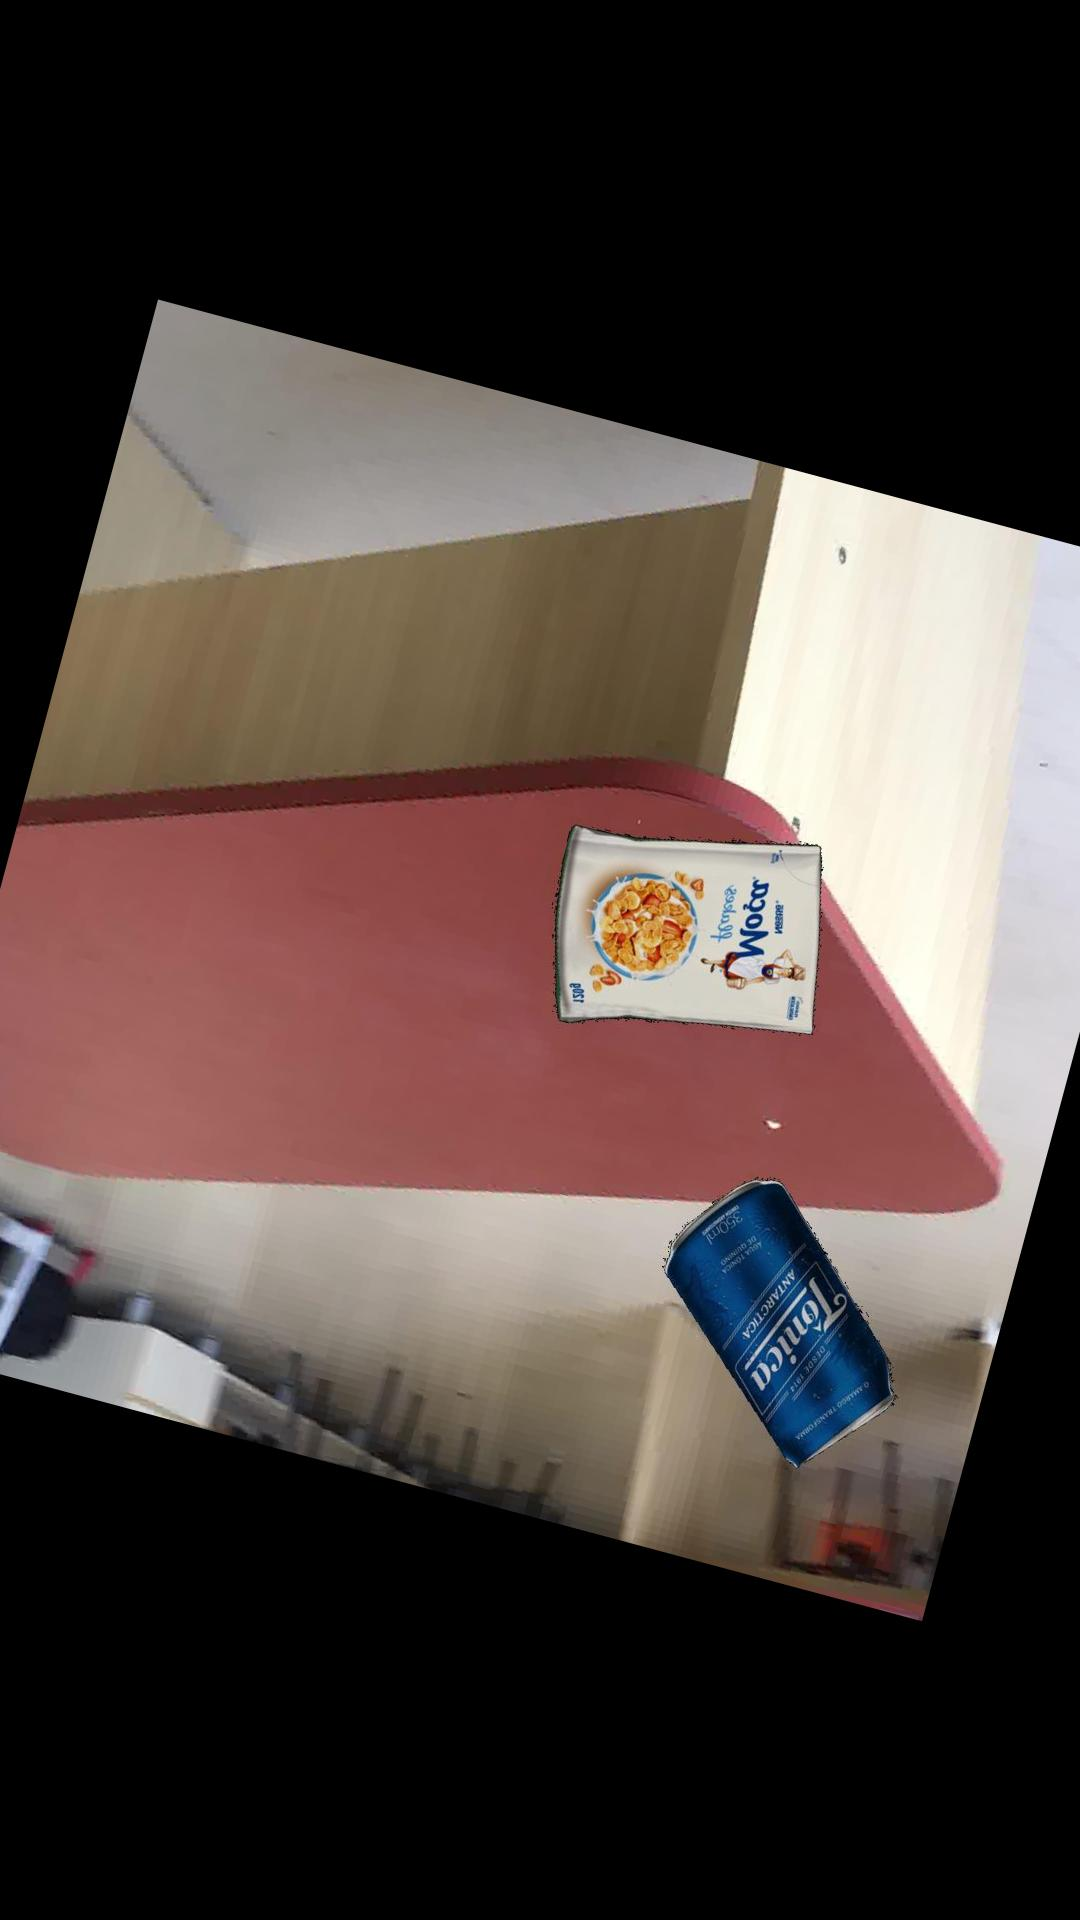corn flakes: (556, 823, 825, 1033)
tonic: (666, 1176, 898, 1466)
